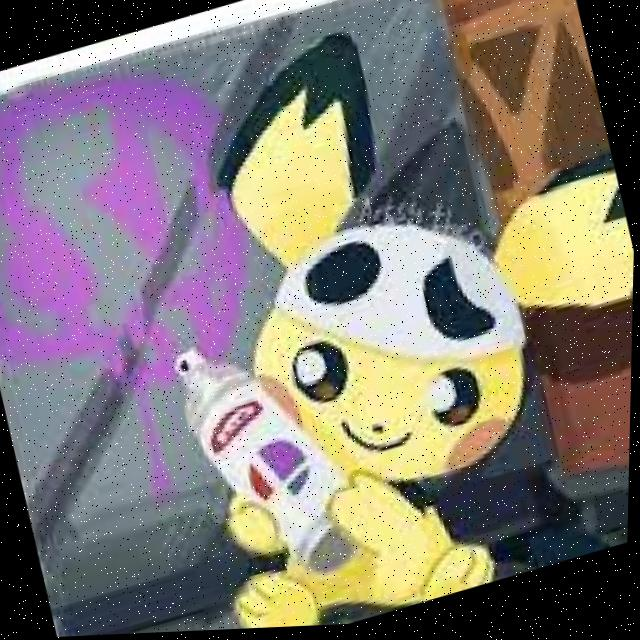pichu: (126, 0, 640, 635)
